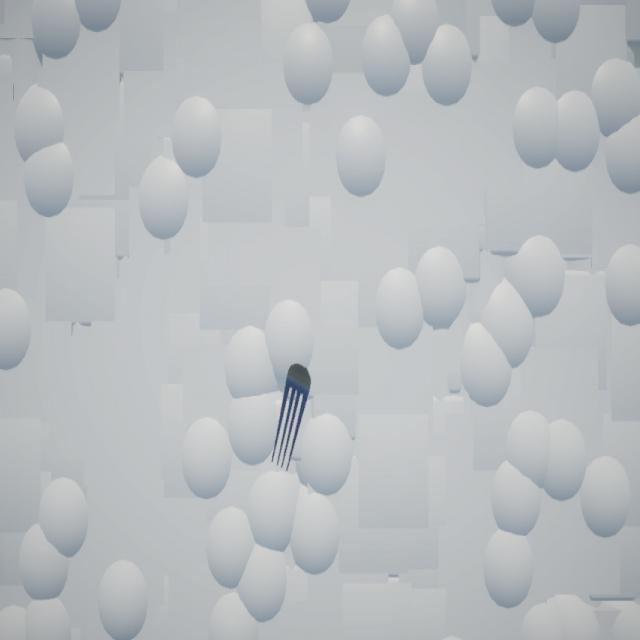top_folk: (273, 364, 313, 472)
